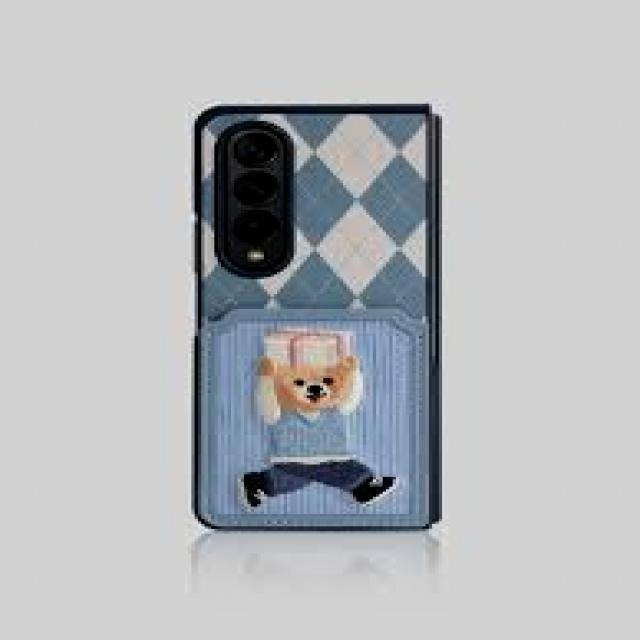lens: (219, 126, 293, 270)
phone: (192, 104, 442, 532)
